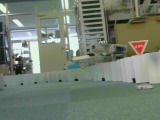stop: (127, 39, 147, 57)
